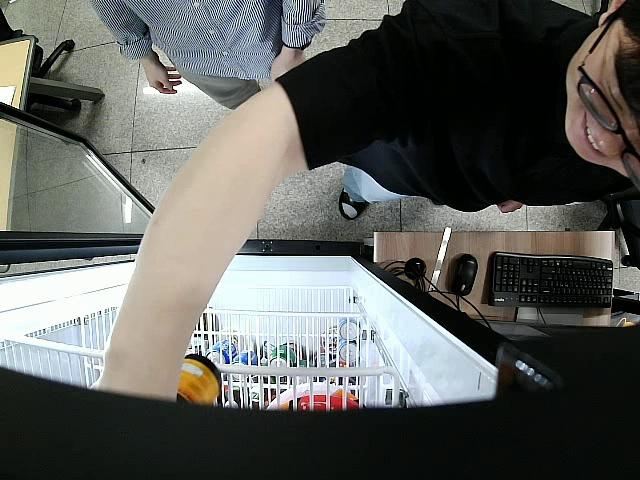00_hand: (144, 54, 181, 96)
